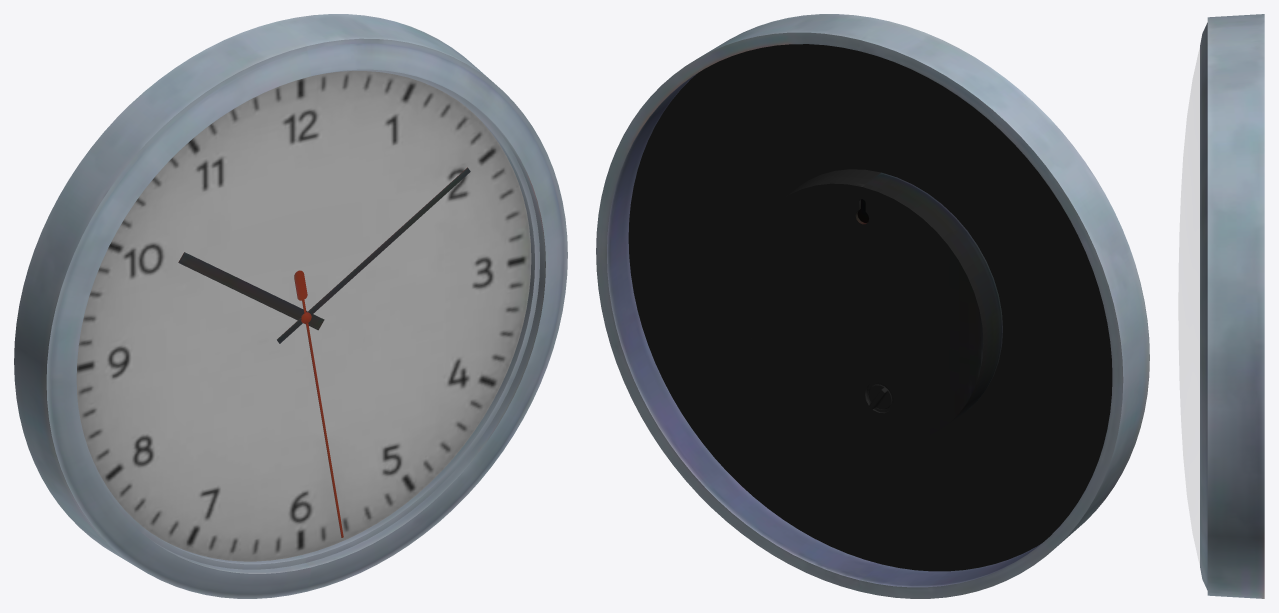
Rendered from wall_clock.glb.
3 renders of one model, left to right at view 1: azimuth 30°, elevation 25°; view 2: azimuth 150°, elevation 25°; view 3: azimuth 270°, elevation 25°, orthographic. The views are drawn at different scales.
Visible parts, largest first — view 1: wall_clock, wall_clock_hours_hand, wall_clock_minute_hand, wall_clock_second_hand; view 2: wall_clock; view 3: wall_clock.
Part boxes in pixels (<box>): wall_clock: <box>14,14,567,598</box>; wall_clock_hours_hand: <box>178,252,324,330</box>; wall_clock_minute_hand: <box>277,167,470,343</box>; wall_clock_second_hand: <box>294,270,343,537</box>; wall_clock: <box>596,14,1149,598</box>; wall_clock: <box>1178,14,1264,598</box>.
Bounding box in the file's own units: 0.3205 × 0.3205 × 0.0472.
2 materials, 1 textured.
